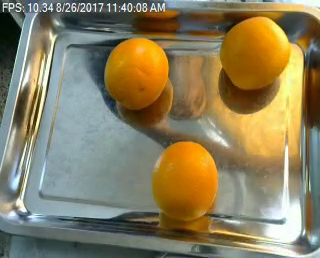Orange: (150, 139, 217, 219), (219, 15, 289, 89), (102, 38, 169, 109)
